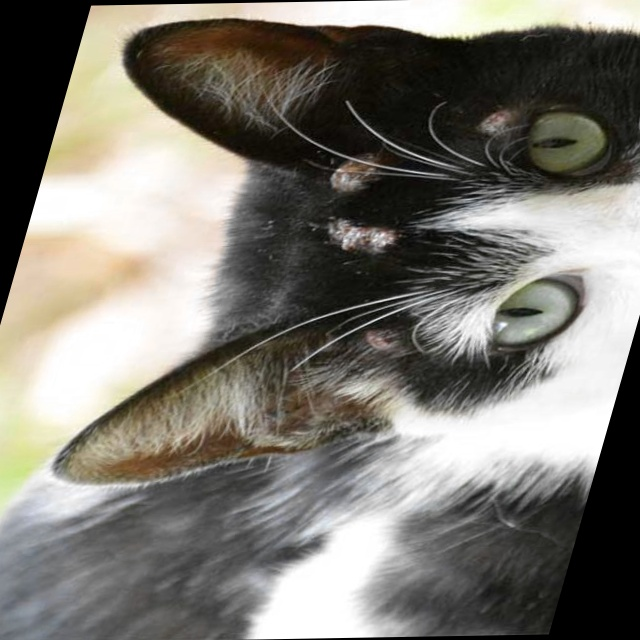lump_and_bump: (333, 222, 402, 254), (333, 157, 378, 184), (476, 107, 515, 133), (365, 329, 401, 350)
